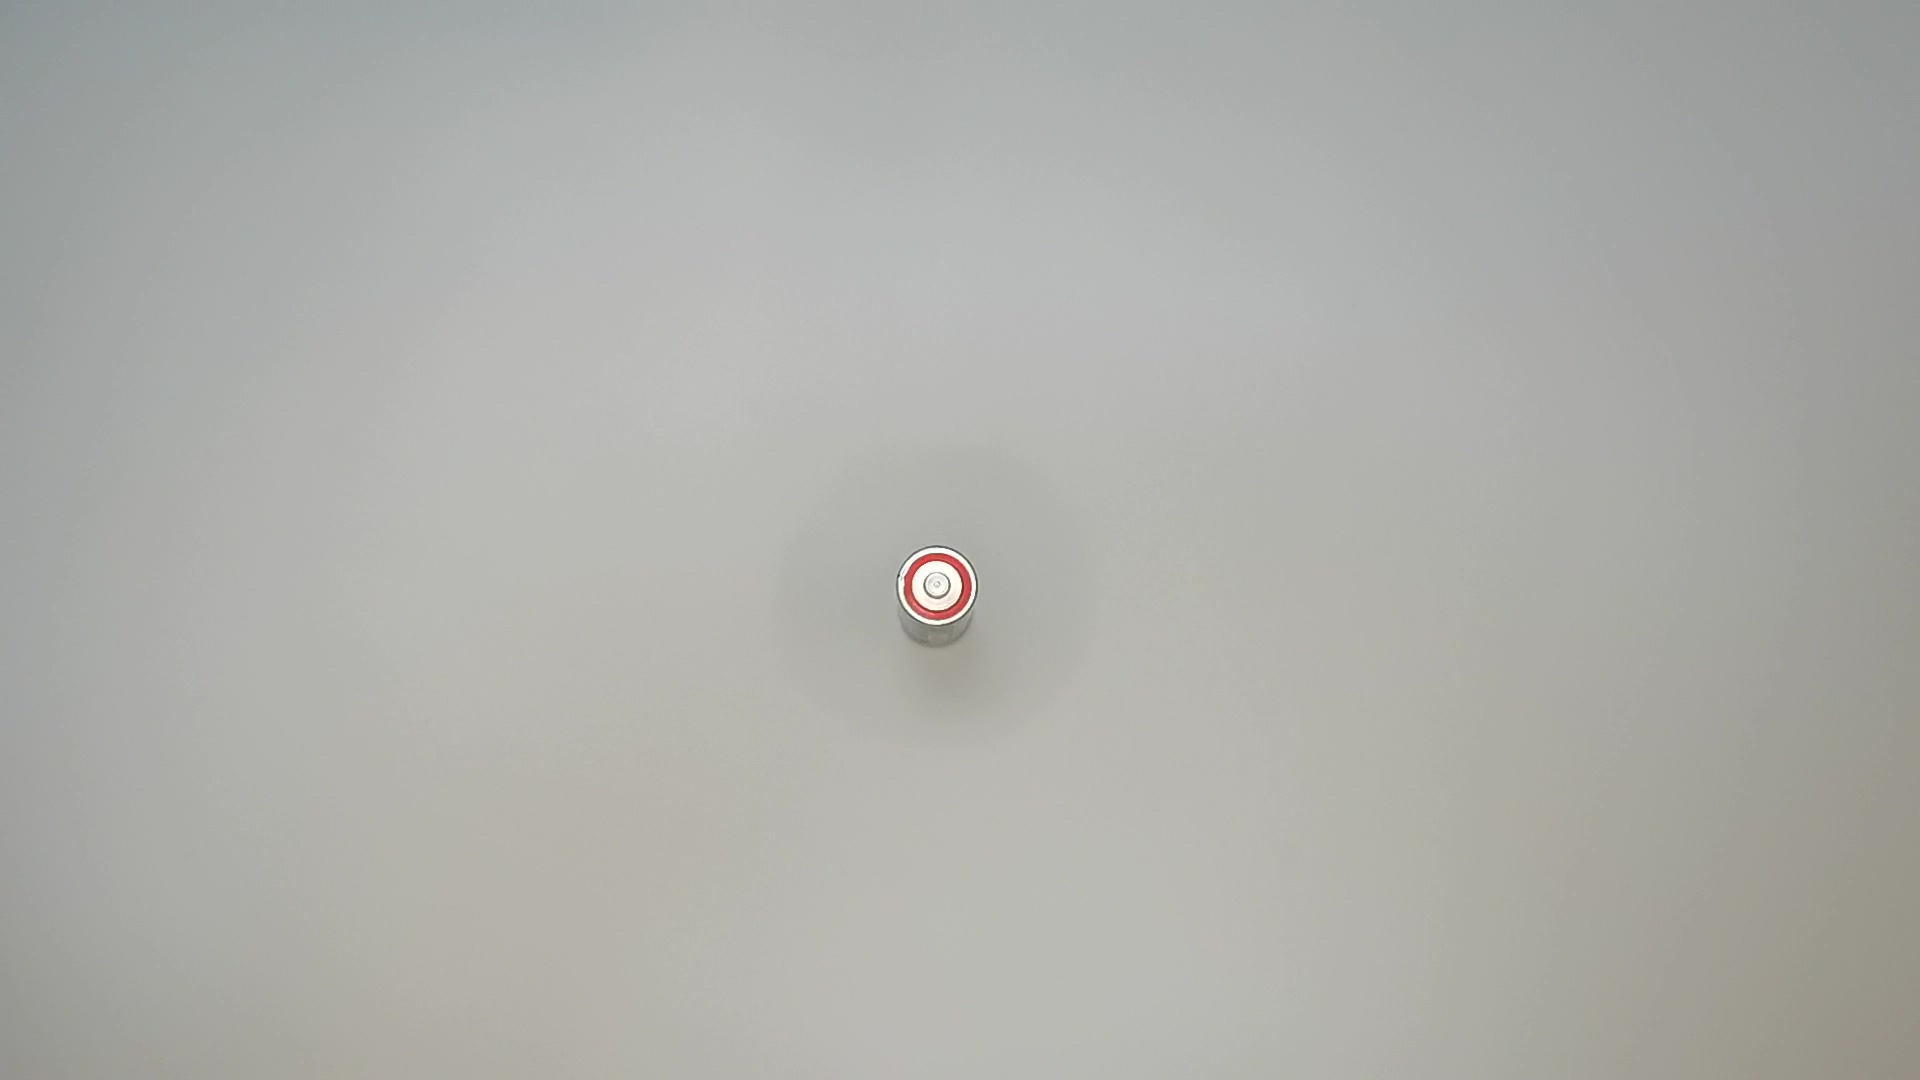battery: (887, 539, 989, 657)
